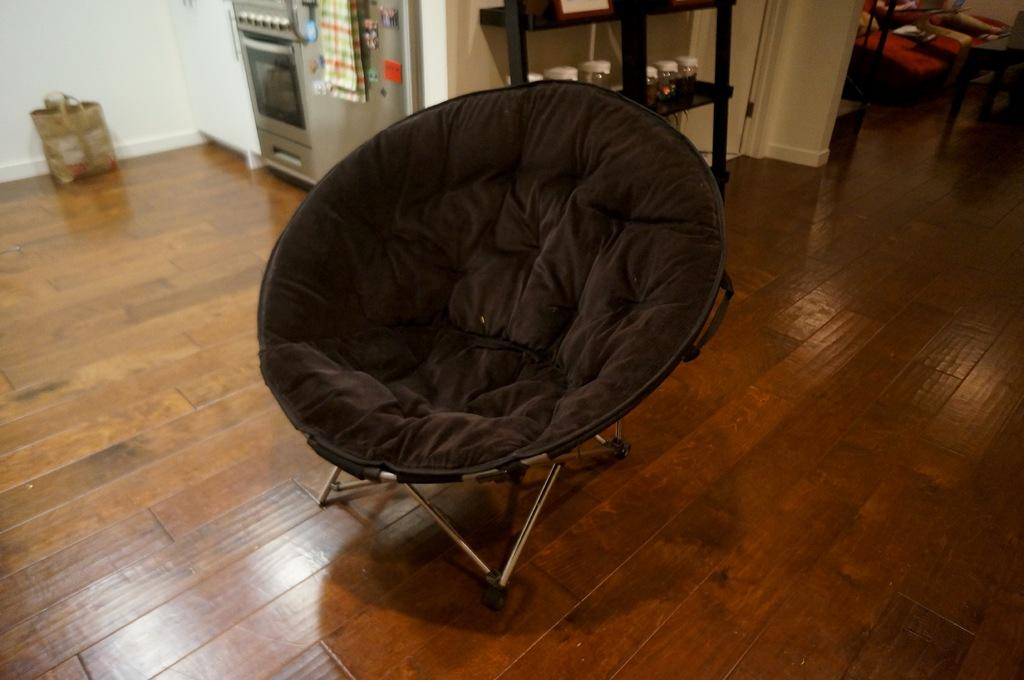Chair: (235, 65, 738, 635)
